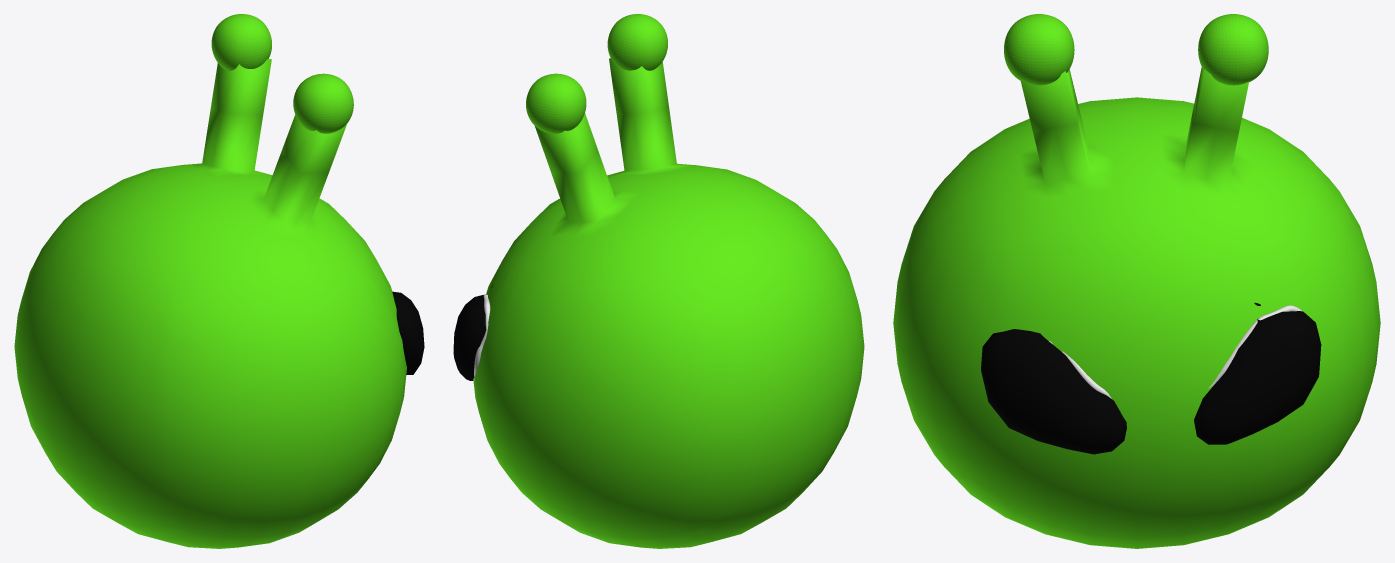
Rendered from Luma verde.glb.
The picture shows the model from 3 angles, left to right: view 1: azimuth 30°, elevation 25°; view 2: azimuth 150°, elevation 25°; view 3: azimuth 270°, elevation 25°; orthographic projection. The views are drawn at different scales.
Visible parts, largest first — view 1: Body, Nudo1, Nudo2, Ojo1; view 2: Body, Nudo2, Nudo1, Ojo2; view 3: Body, Ojo1, Ojo2, Nudo1, Nudo2.
Part boxes in pixels (left/top/right/bottom): Body: left=14, top=59, right=406, bottom=548; Nudo1: left=293, top=73, right=353, bottom=133; Nudo2: left=211, top=14, right=271, bottom=70; Ojo1: left=392, top=291, right=424, bottom=374; Body: left=473, top=58, right=864, bottom=548; Nudo2: left=526, top=73, right=586, bottom=133; Nudo1: left=607, top=14, right=667, bottom=70; Ojo2: left=453, top=295, right=486, bottom=380; Body: left=893, top=67, right=1380, bottom=548; Ojo1: left=981, top=329, right=1126, bottom=454; Ojo2: left=1194, top=311, right=1321, bottom=444; Nudo1: left=1004, top=14, right=1074, bottom=85; Nudo2: left=1198, top=14, right=1268, bottom=85.
Size of the model in its own units: 3.19 by 4.13 by 3.32.
